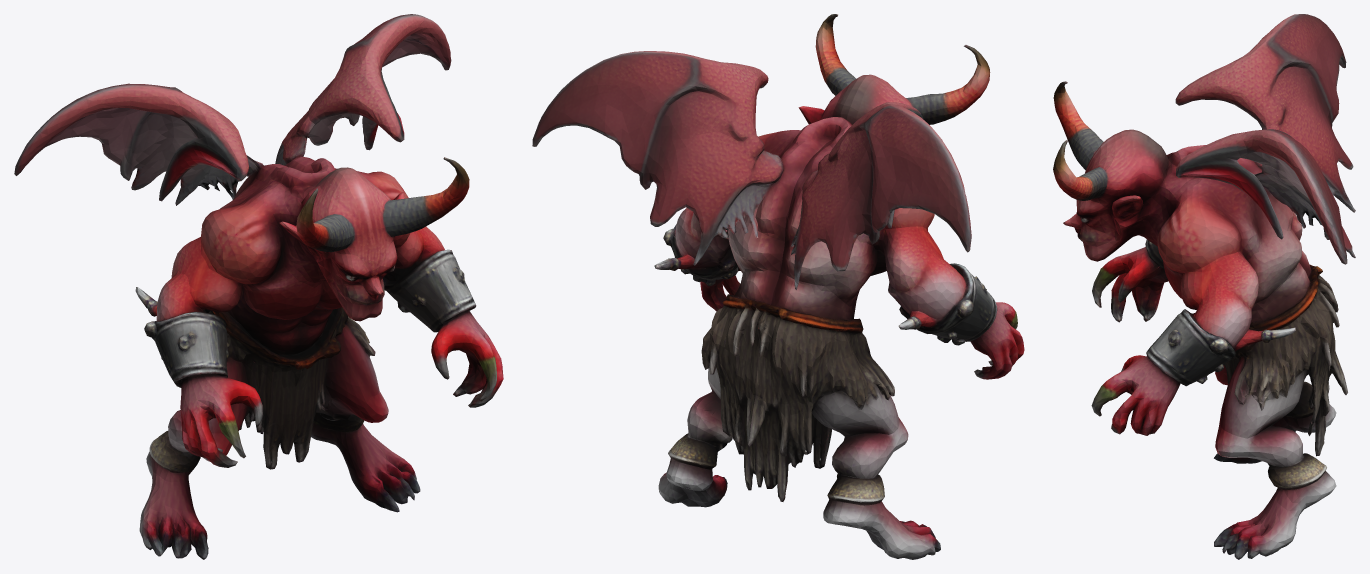
File: DemonEnemy.glb
The picture shows the model from 3 angles, left to right: view 1: azimuth 30°, elevation 25°; view 2: azimuth 150°, elevation 25°; view 3: azimuth 270°, elevation 25°; orthographic projection. The views are drawn at different scales.
Bounding box in the file's own units: 100 × 100 × 65.
Materials: 1 (1 with a texture image).
